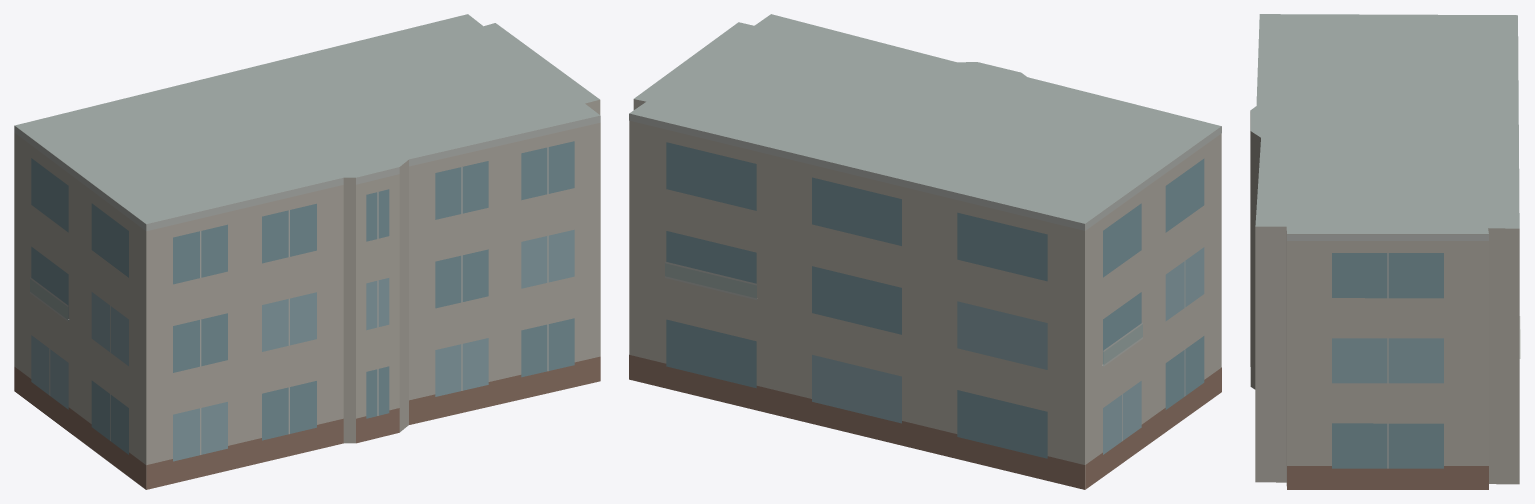
The model's file is survey-upis-32511403.glb.
The picture shows the model from 3 angles, left to right: view 1: azimuth 30°, elevation 25°; view 2: azimuth 150°, elevation 25°; view 3: azimuth 270°, elevation 25°; orthographic projection. The views are drawn at different scales.
Visible parts, largest first — view 1: survey-upis-32511403.tmp; view 2: survey-upis-32511403.tmp; view 3: survey-upis-32511403.tmp.
Part boxes in pixels (bbox=[...]): survey-upis-32511403.tmp: bbox=[14, 14, 600, 489]; survey-upis-32511403.tmp: bbox=[629, 14, 1221, 489]; survey-upis-32511403.tmp: bbox=[1250, 14, 1520, 489].
Bounding box in the file's own units: 16.9 × 9.15 × 8.77.
